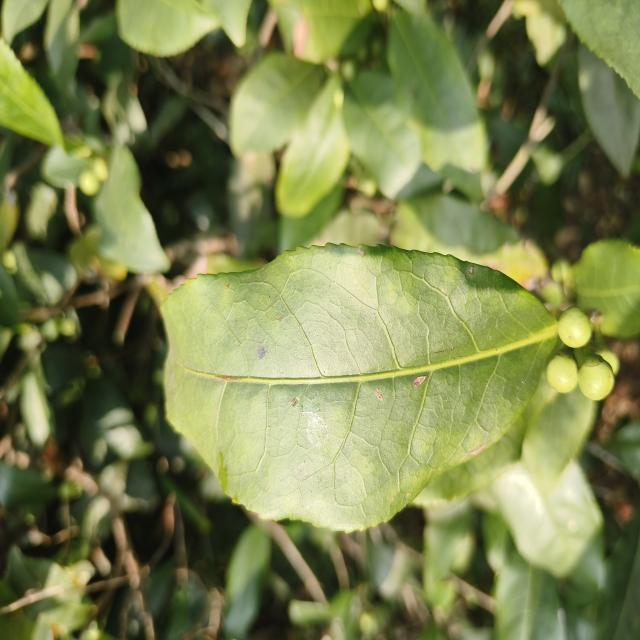Leaf: (162, 245, 556, 531), (387, 11, 487, 172), (391, 192, 548, 289), (491, 461, 606, 590), (276, 74, 350, 218), (343, 71, 422, 199), (229, 52, 324, 155), (94, 147, 170, 274), (521, 378, 596, 493), (578, 45, 640, 176), (559, 0, 640, 97), (0, 38, 63, 146), (268, 0, 374, 64), (573, 240, 640, 339), (495, 550, 564, 640), (116, 0, 220, 56), (597, 510, 640, 640), (224, 524, 271, 640), (44, 0, 80, 93), (0, 461, 56, 509)
